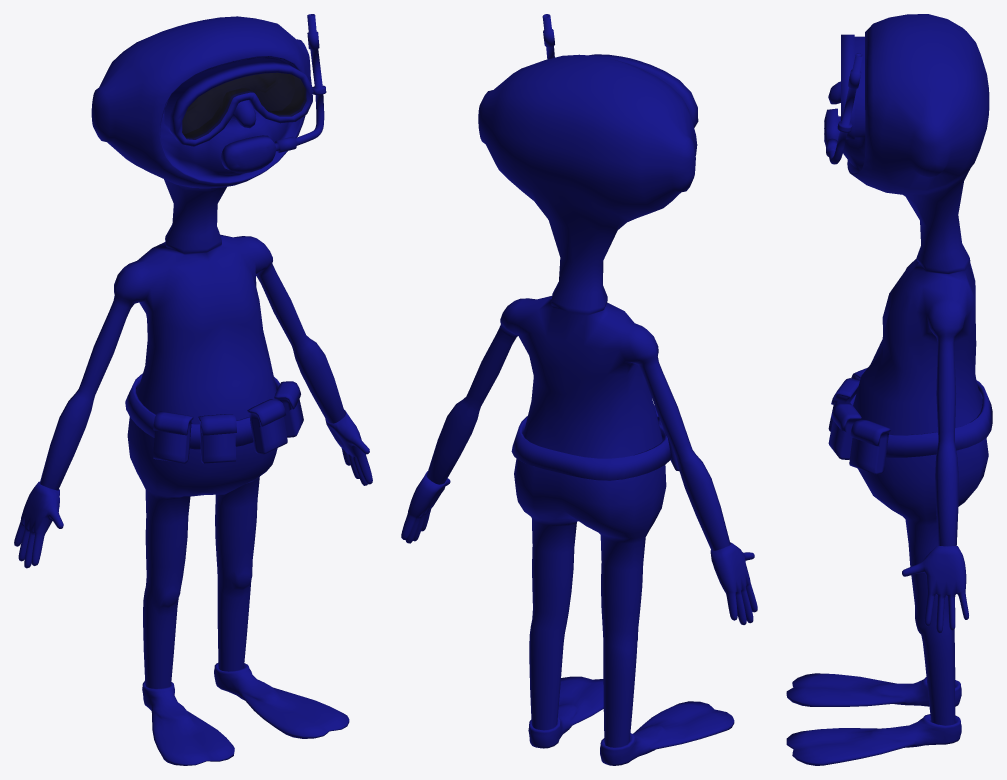
Rendered from driver1_02.obj.
3 views of the same model, side by side, from view 1: azimuth 30°, elevation 25°; view 2: azimuth 150°, elevation 25°; view 3: azimuth 270°, elevation 25° (orthographic). The views are drawn at different scales.
Parts seen in each view (by area): view 1: driver1_001; view 2: driver1_001; view 3: driver1_001.
Boxes of the visible parts, x1,y1,x2,y2 form: driver1_001: (14,14,372,765); driver1_001: (401,14,757,765); driver1_001: (786,14,992,765).
Bounding box in the file's own units: 0.9268 × 1.78 × 0.4725.
